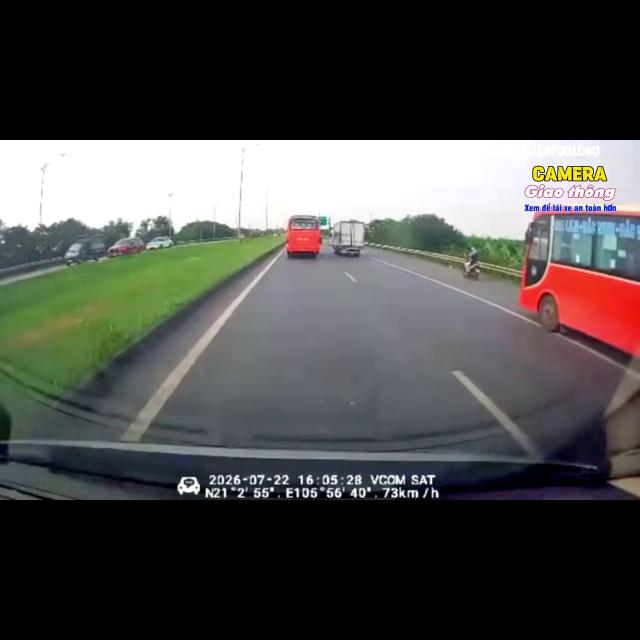bus: (519, 206, 639, 355), (286, 215, 321, 257)
car: (107, 238, 145, 257), (177, 477, 200, 495), (146, 237, 173, 249)
motorcycle: (461, 259, 480, 279)
truck: (62, 234, 108, 268), (330, 220, 365, 256)
